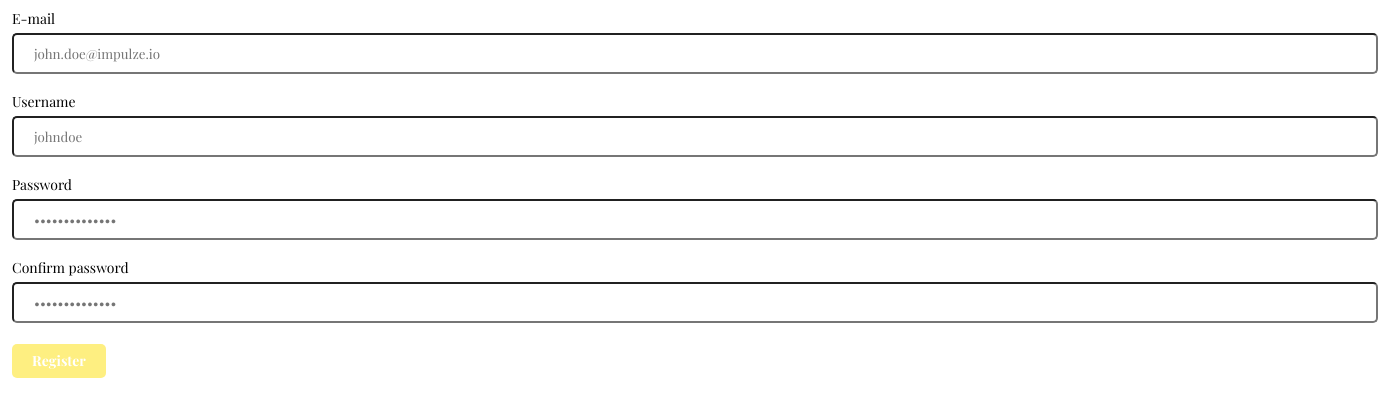
Scenario: Registration form › should display the correct error when the email is malformed
This screenshot has width=1390, height=409.
Type "notanemail" into the field labelled "E-mail".
click(695, 54); type("notanemail")  # box [12, 33, 1378, 74]
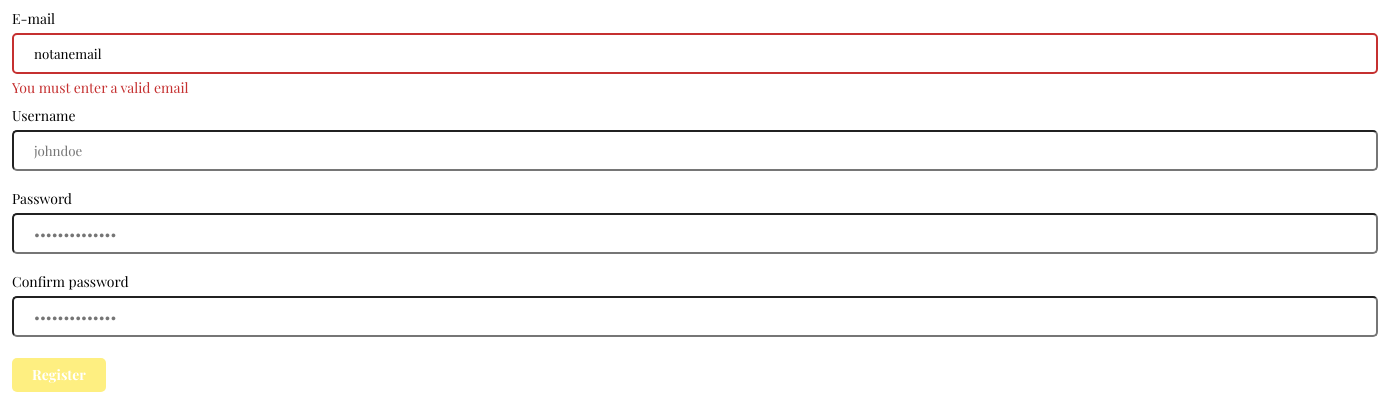
Check: the text "You must enter a valid email" is shown, box [12, 78, 188, 97]
